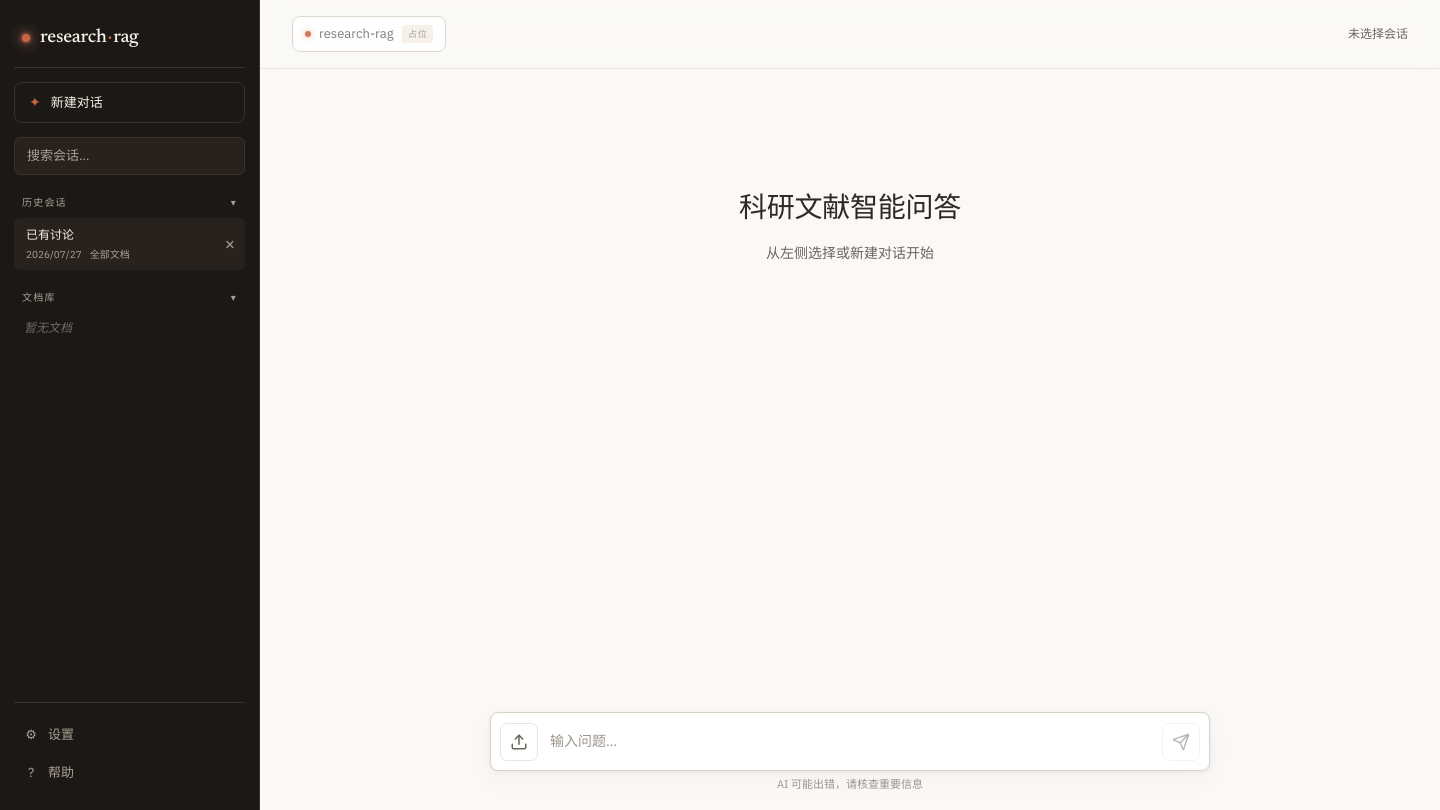
Scenario: App › 选择既有会话后显示服务端历史并开放续聊
What coordinates should you click on to do the following:
click the button "已有讨论 2026/07/27 全部文档"
I would click on:
 (114, 244)
Its box is [15,218,212,268].
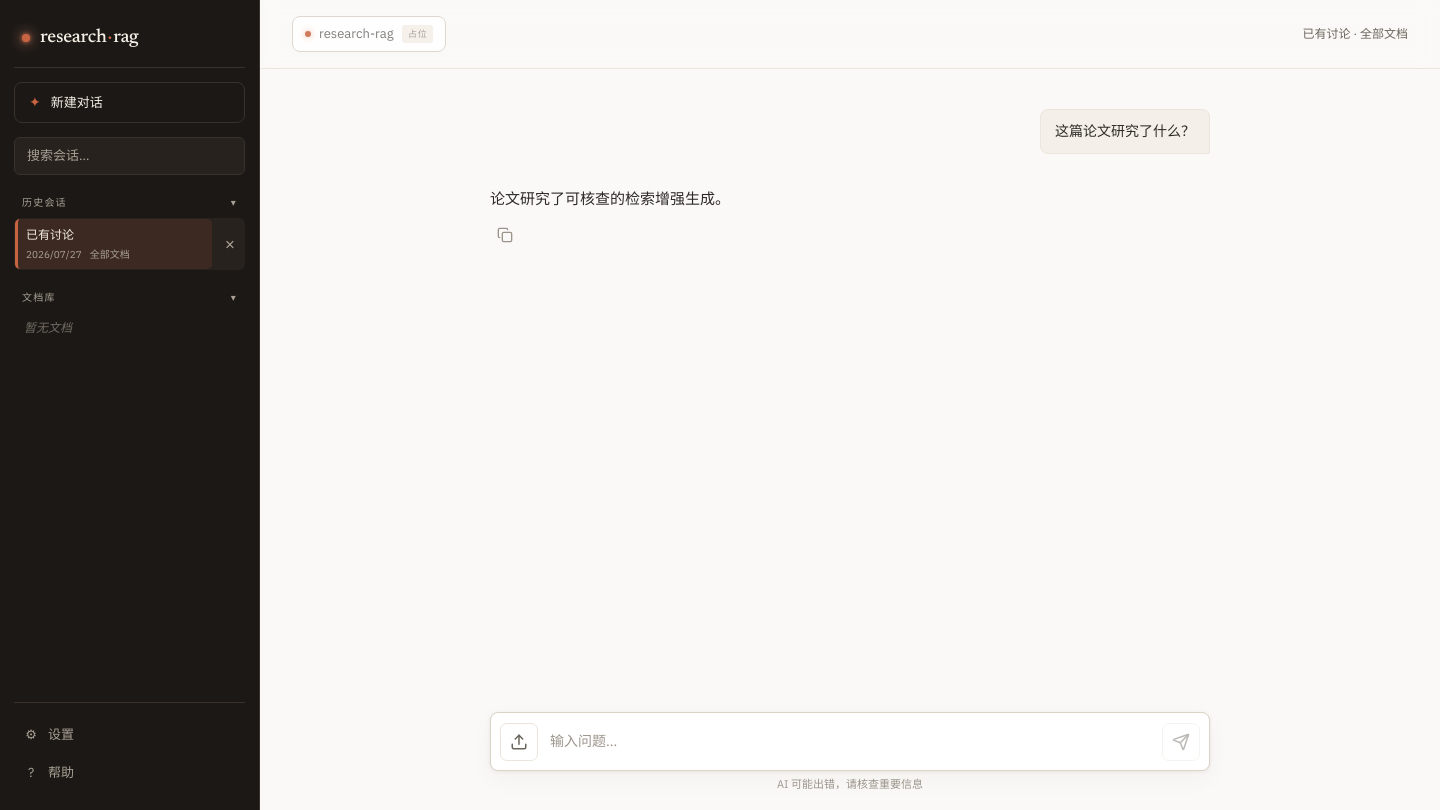
Expected: the text box named "问题输入" is enabled, [546,722,1154,760]
Expected: the text "论文研究了可核查的检索增强生成。" is shown, [490,189,730,208]
